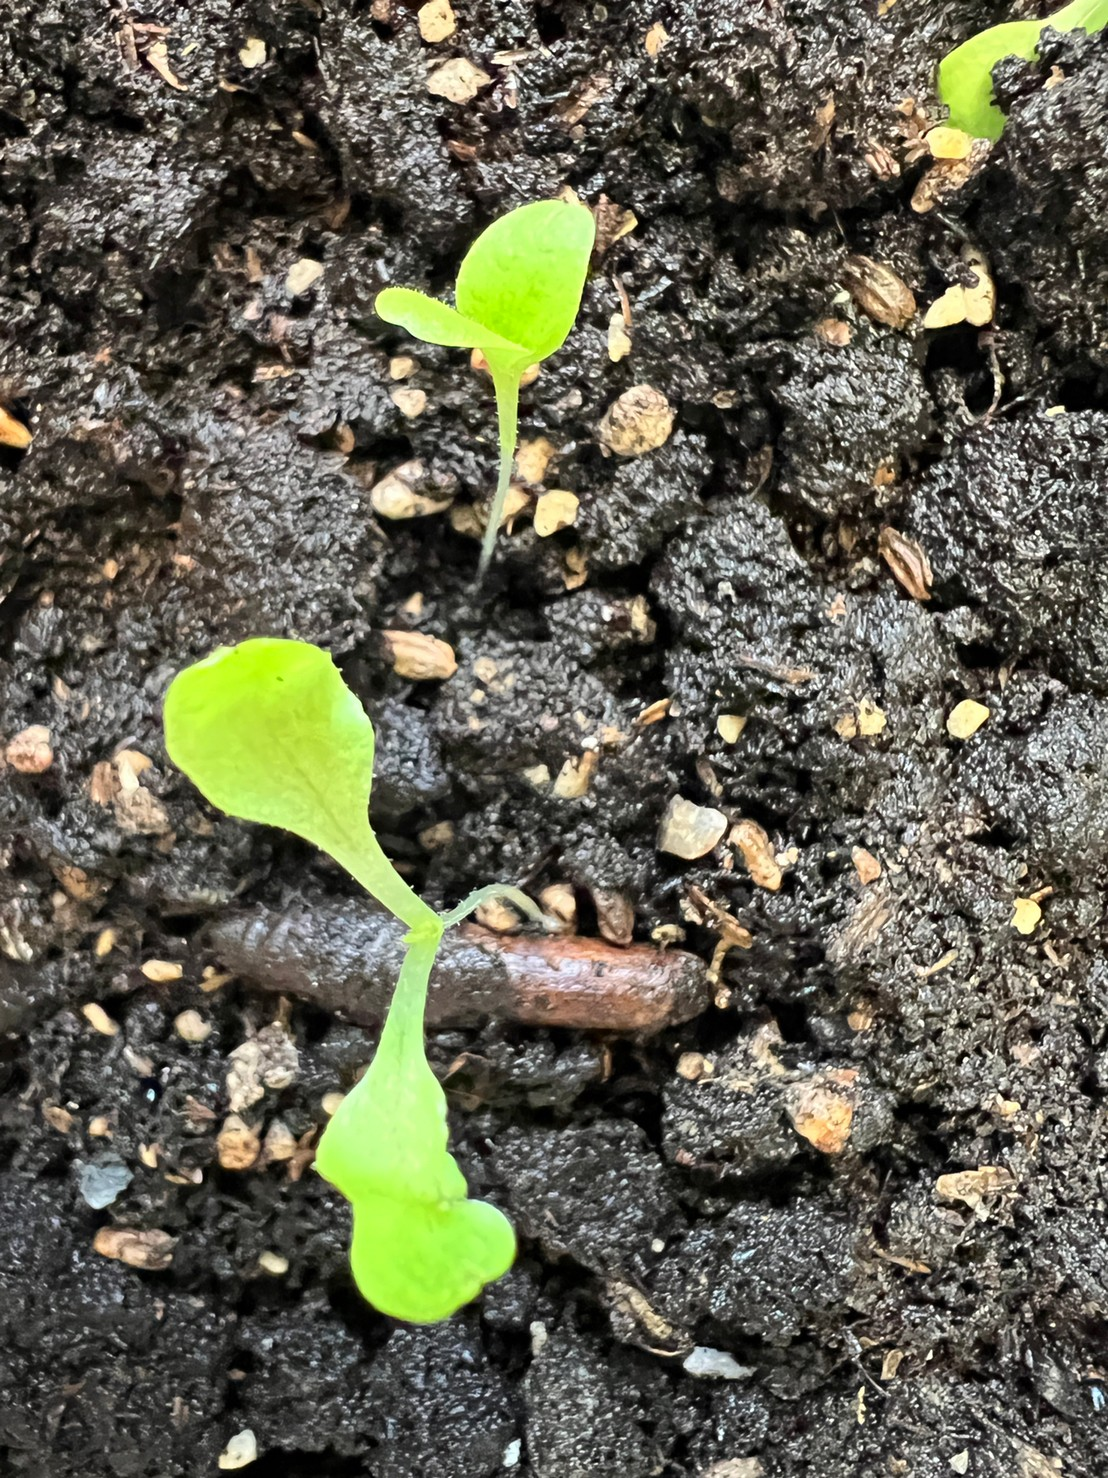week1: (313, 848, 589, 1364), (336, 172, 690, 442), (151, 584, 422, 933)
